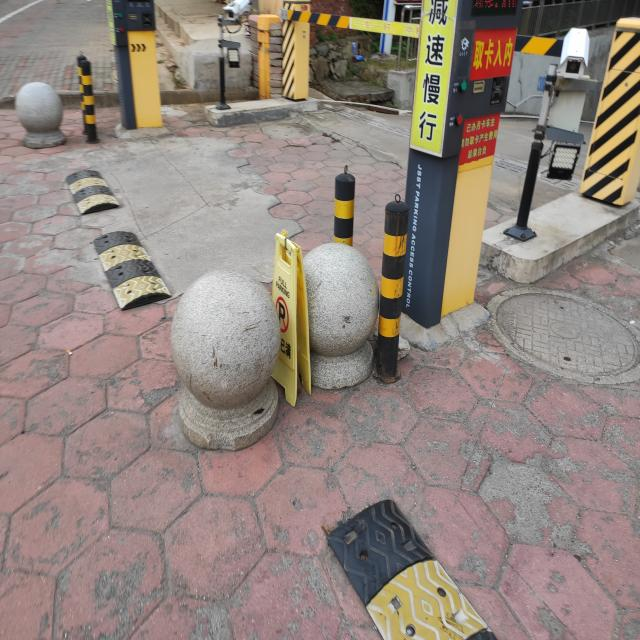spherical_roadblock: (168, 270, 284, 452), (299, 241, 379, 388), (13, 80, 66, 148)
warning_column: (372, 193, 409, 381), (329, 167, 360, 240), (82, 59, 100, 144)
